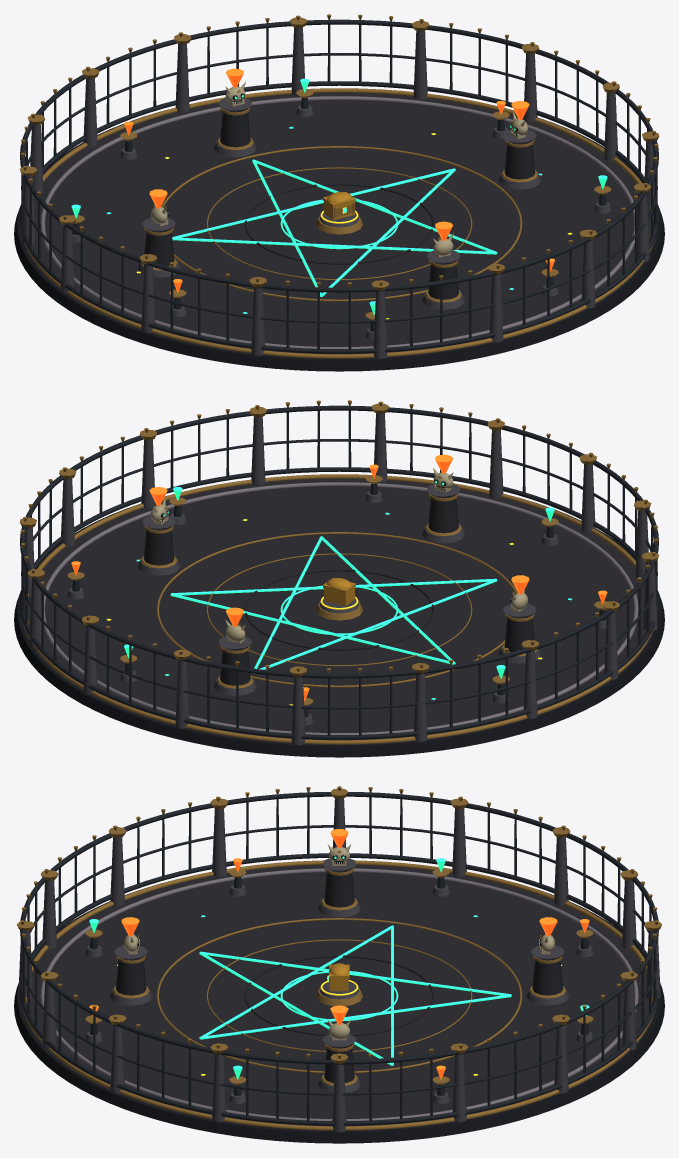
The model's file is devil_square.glb.
The picture shows the model from 3 angles, top to bottom: view 1: azimuth 30°, elevation 25°; view 2: azimuth 150°, elevation 25°; view 3: azimuth 270°, elevation 25°; orthographic projection.
Visible parts, largest first — view 1: devil_square_floor, devil_square_foundation, devil_square_cage_crown_rail, devil_square_cage_lower_rail, devil_square_outer_masonry_ring, devil_square_inner_masonry_ring, devil_square_cage_mid_rail, devil_square_pentagram, devil_square_pentagram_outer_inlay, devil_square_floor_ward_ring_01, devil_square_floor_ward_ring_02, south_totem_shaft (+18 smaller); view 2: devil_square_floor, devil_square_foundation, devil_square_cage_crown_rail, devil_square_cage_lower_rail, devil_square_outer_masonry_ring, devil_square_inner_masonry_ring, devil_square_cage_mid_rail, devil_square_pentagram, devil_square_pentagram_outer_inlay, devil_square_floor_ward_ring_01, devil_square_floor_ward_ring_02, north_totem_shaft (+18 smaller); view 3: devil_square_floor, devil_square_foundation, devil_square_cage_crown_rail, devil_square_cage_lower_rail, devil_square_outer_masonry_ring, devil_square_inner_masonry_ring, devil_square_cage_mid_rail, devil_square_pentagram, devil_square_pentagram_outer_inlay, devil_square_floor_ward_ring_02, devil_square_floor_ward_ring_01, west_totem_shaft (+16 smaller).
Part boxes in pixels (x1,y1,x2,y2): devil_square_floor: [25, 92, 657, 359]; devil_square_foundation: [14, 112, 664, 371]; devil_square_cage_crown_rail: [20, 19, 658, 292]; devil_square_cage_lower_rail: [20, 81, 658, 353]; devil_square_outer_masonry_ring: [26, 88, 653, 358]; devil_square_inner_masonry_ring: [40, 96, 634, 348]; devil_square_cage_mid_rail: [21, 53, 657, 323]; devil_square_pentagram: [172, 159, 497, 296]; devil_square_pentagram_outer_inlay: [161, 146, 522, 301]; devil_square_floor_ward_ring_01: [244, 183, 434, 264]; devil_square_floor_ward_ring_02: [206, 167, 472, 280]; south_totem_shaft: [220, 112, 250, 147]; devil_square_floor: [21, 478, 653, 745]; devil_square_foundation: [14, 498, 664, 757]; devil_square_cage_crown_rail: [20, 405, 658, 678]; devil_square_cage_lower_rail: [20, 467, 658, 739]; devil_square_outer_masonry_ring: [25, 474, 652, 744]; devil_square_inner_masonry_ring: [44, 482, 638, 734]; devil_square_cage_mid_rail: [21, 439, 657, 709]; devil_square_pentagram: [170, 536, 497, 669]; devil_square_pentagram_outer_inlay: [156, 532, 517, 687]; devil_square_floor_ward_ring_01: [244, 569, 434, 650]; devil_square_floor_ward_ring_02: [206, 553, 472, 666]; north_totem_shaft: [428, 498, 458, 533]; devil_square_floor: [21, 864, 657, 1130]; devil_square_foundation: [14, 883, 664, 1143]; devil_square_cage_crown_rail: [20, 792, 658, 1064]; devil_square_cage_lower_rail: [20, 853, 658, 1125]; devil_square_outer_masonry_ring: [25, 860, 653, 1130]; devil_square_inner_masonry_ring: [40, 868, 638, 1120]; devil_square_cage_mid_rail: [21, 825, 657, 1095]; devil_square_pentagram: [199, 925, 511, 1065]; devil_square_pentagram_outer_inlay: [156, 918, 522, 1073]; devil_square_floor_ward_ring_02: [206, 939, 472, 1052]; devil_square_floor_ward_ring_01: [244, 955, 434, 1035]; west_totem_shaft: [324, 873, 354, 907].
Bounding box in the file's own units: 50 × 7.2 × 50.
